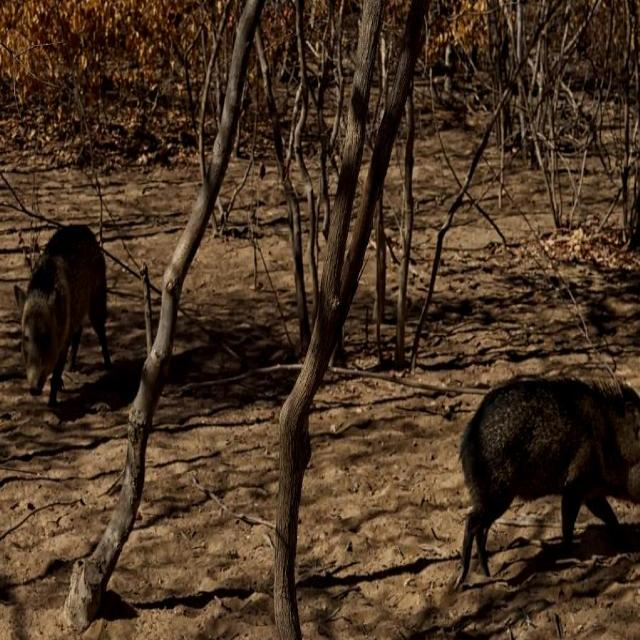pig: (456, 379, 640, 585), (15, 225, 111, 405)
